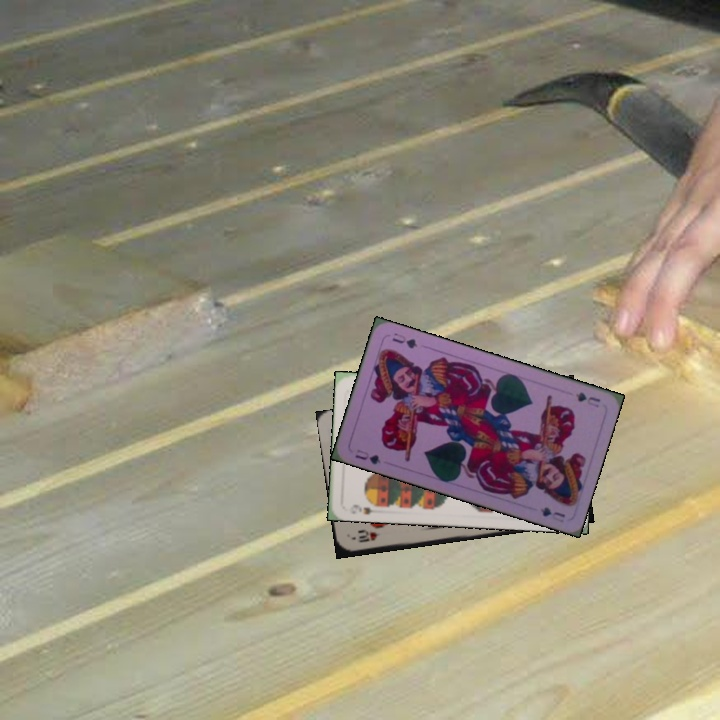GU: (351, 445, 383, 467), (572, 388, 603, 410)
H10: (354, 528, 383, 545)
S9: (347, 497, 384, 517)
